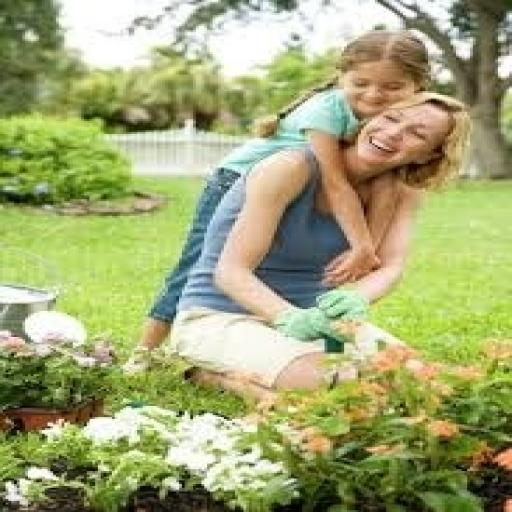hugging: (168, 90, 476, 412)
